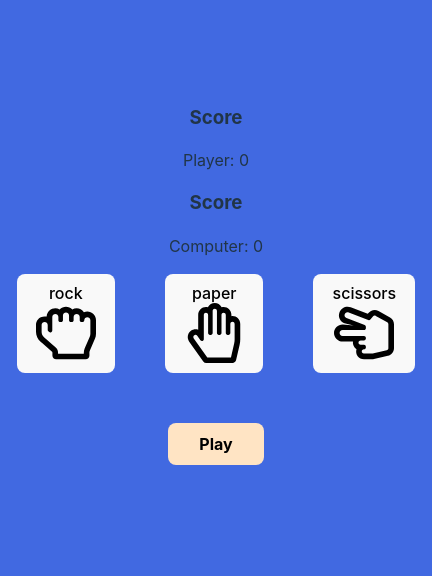
Test case: ScoreAndResults › should display the player and computer hand shake when playing
The width and height of the screenshot is (432, 576).
Click the button "rock": (66, 323) [17, 274, 115, 373]
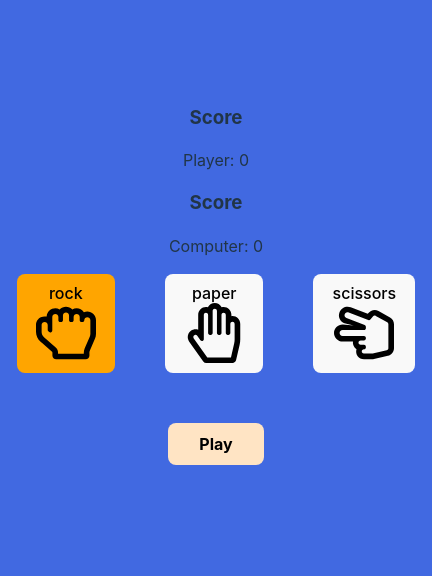
Click the button "Play": (216, 444) [168, 423, 264, 465]
Wait 2000 ms
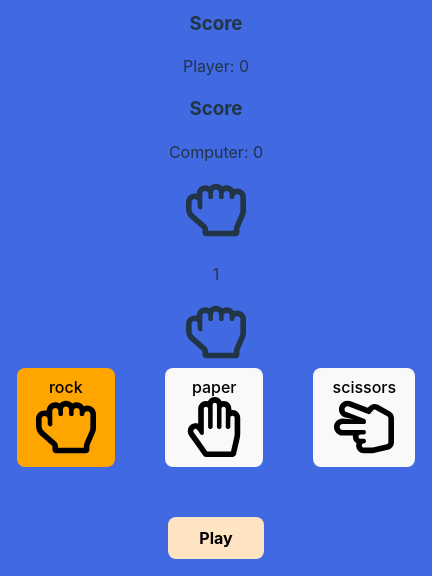
expect the element with test id "playerShake" is shown: met, box [186, 180, 246, 240]
expect the element with test id "computerShake" is shown: met, box [186, 302, 246, 362]
